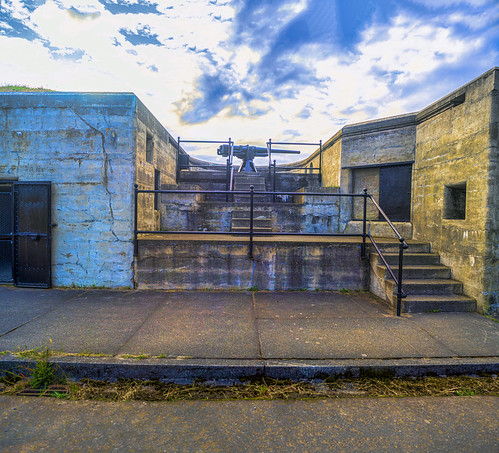building: (1, 95, 173, 306), (345, 80, 499, 305)
sidewalk: (9, 278, 499, 377)
sky: (13, 1, 499, 138)
weapon: (207, 130, 305, 170)
